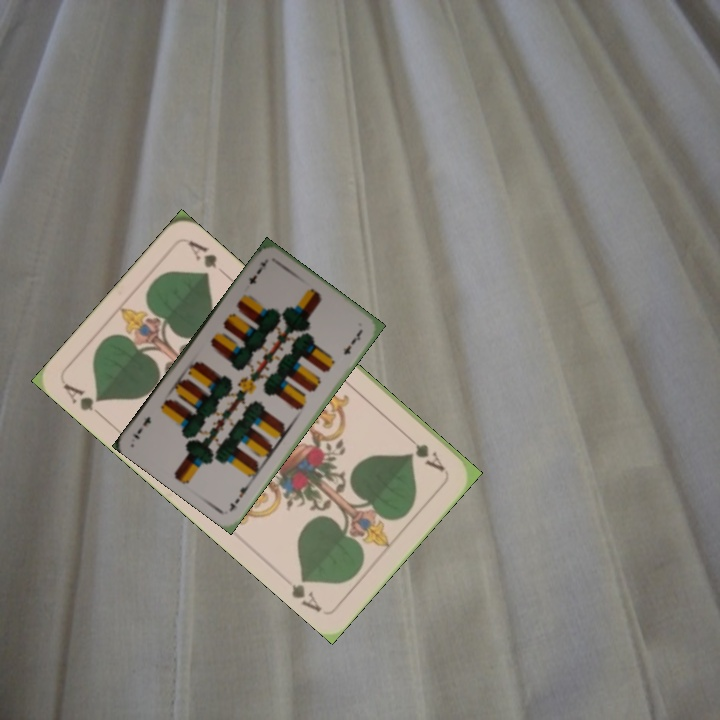E7: (225, 478, 254, 514), (244, 256, 271, 287)
GA: (403, 430, 447, 474), (59, 380, 104, 414)
